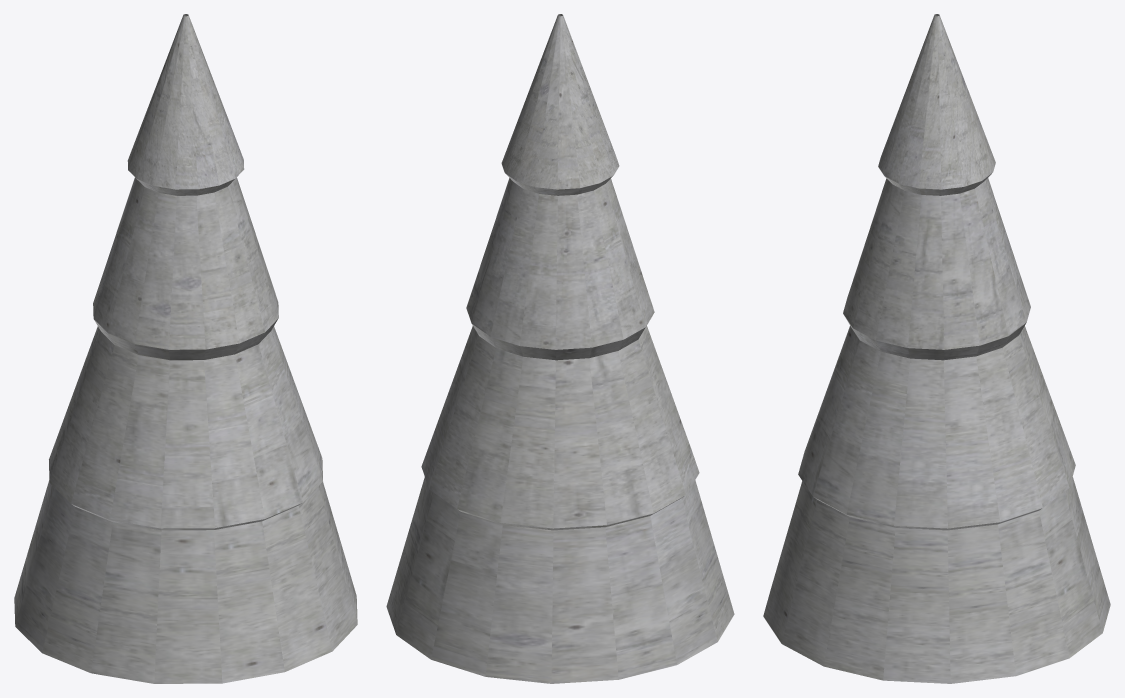
The model's file is elka.fbx.
The picture shows the model from 3 angles, left to right: view 1: azimuth 30°, elevation 25°; view 2: azimuth 150°, elevation 25°; view 3: azimuth 270°, elevation 25°; orthographic projection.
Parts seen in each view (by area): view 1: 2023.005; view 2: 2023.005; view 3: 2023.005.
Part boxes in pixels (x1,y1,x2,y2): 2023.005: (14, 14, 357, 683); 2023.005: (386, 14, 734, 683); 2023.005: (763, 14, 1110, 683).
Size of the model in its own units: 22.35 by 42.25 by 22.35.
